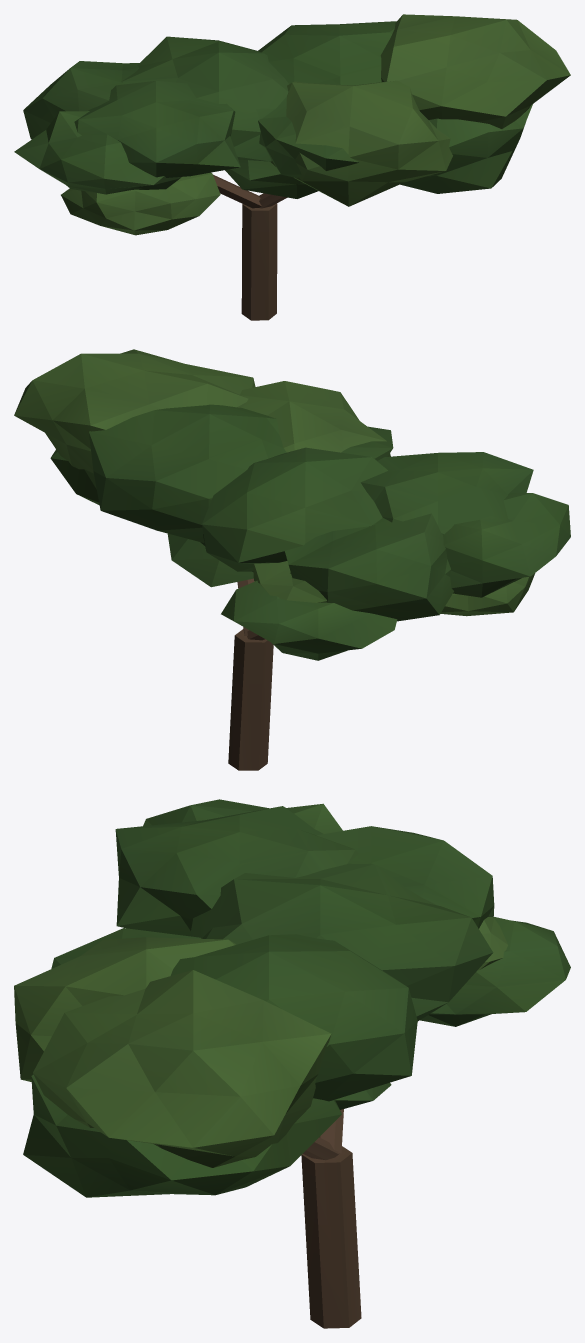
The model's file is veg_ek_1.glb.
3 renders of one model, top to bottom at view 1: azimuth 30°, elevation 25°; view 2: azimuth 150°, elevation 25°; view 3: azimuth 270°, elevation 25°, orthographic. The views are drawn at different scales.
Visible parts, largest first — view 1: geometry_0; view 2: geometry_0; view 3: geometry_0.
Part boxes in pixels (box(x1,y1,x2,y2)): geometry_0: box(14, 14, 570, 320); geometry_0: box(14, 349, 570, 770); geometry_0: box(14, 799, 570, 1328).
Size of the model in its own units: 1.84 by 1 by 1.23.
